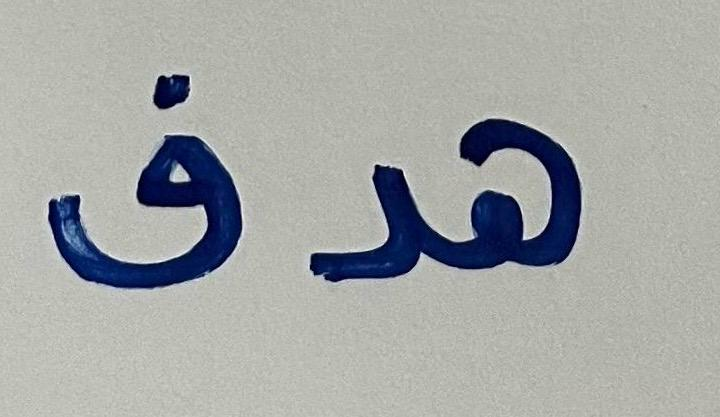dal: (273, 87, 427, 323)
feh: (39, 49, 265, 350)
heh: (430, 63, 610, 335)
